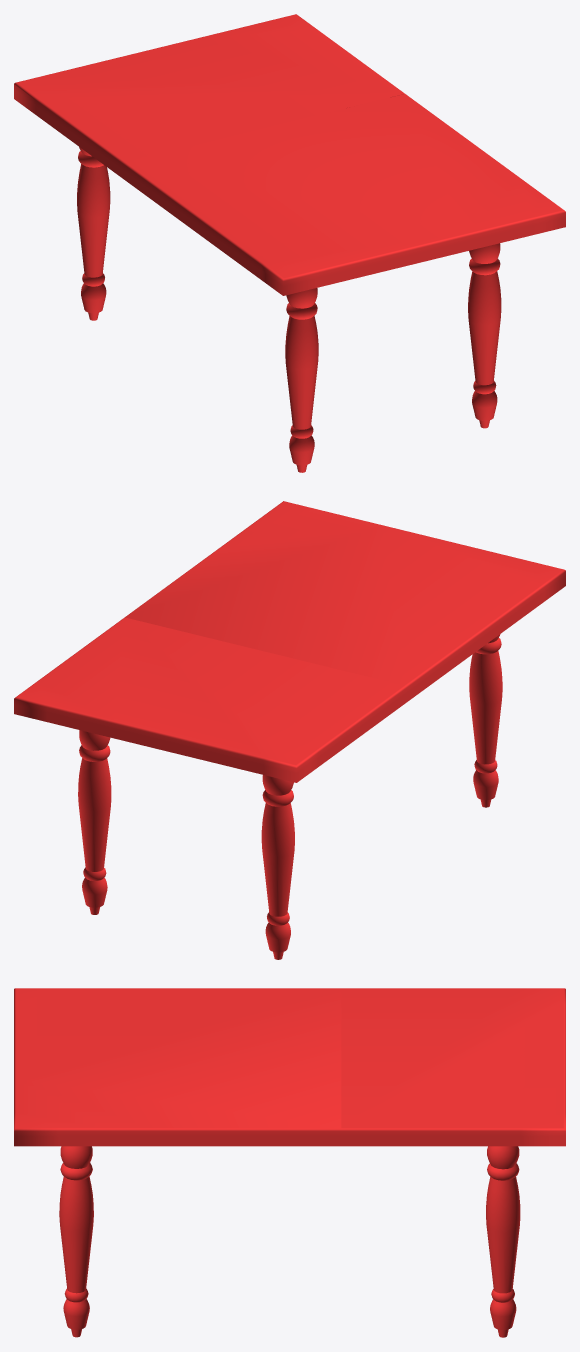
Rendered from LR_Table.fbx.
The picture shows the model from 3 angles, top to bottom: view 1: azimuth 30°, elevation 25°; view 2: azimuth 150°, elevation 25°; view 3: azimuth 270°, elevation 25°; orthographic projection. The views are drawn at different scales.
Visible parts, largest first — view 1: Meesa; view 2: Meesa; view 3: Meesa.
Boxes of the visible parts, x1=… form: Meesa: x1=14, y1=14, x2=565, y2=472; Meesa: x1=14, y1=501, x2=565, y2=959; Meesa: x1=14, y1=988, x2=565, y2=1337.
Size of the model in its own units: 114 by 188 by 87.34.
